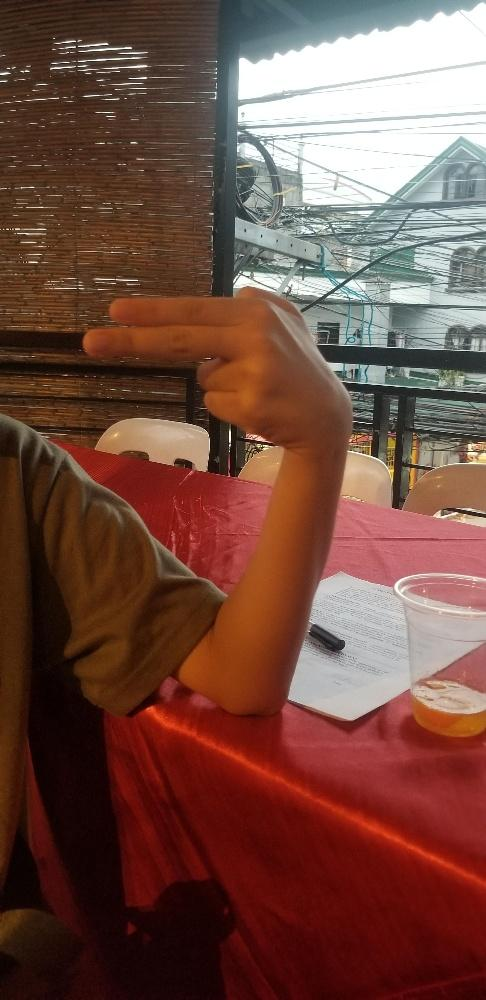h: (79, 286, 349, 449)
